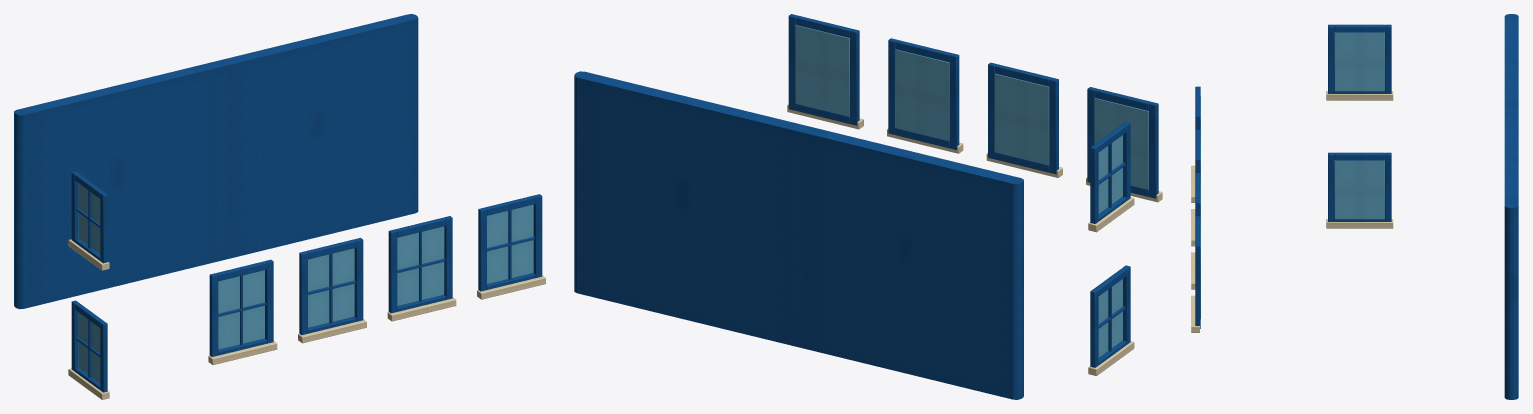
File: 6-standing-binder-band-2-3.fbx
3 views of the same model, side by side, from view 1: azimuth 30°, elevation 25°; view 2: azimuth 150°, elevation 25°; view 3: azimuth 270°, elevation 25° (orthographic). The views are drawn at different scales.
Parts seen in each view (by area): view 1: standing-binder-band-2-3; view 2: standing-binder-band-2-3; view 3: standing-binder-band-2-3.
Boxes of the visible parts, box(x1,y1,x2,y2) form: standing-binder-band-2-3: box(14, 14, 545, 399); standing-binder-band-2-3: box(574, 14, 1162, 399); standing-binder-band-2-3: box(1191, 14, 1518, 399).
Size of the model in its own units: 13225 by 6700 by 9275.
Materials: 1 (1 with a texture image).
